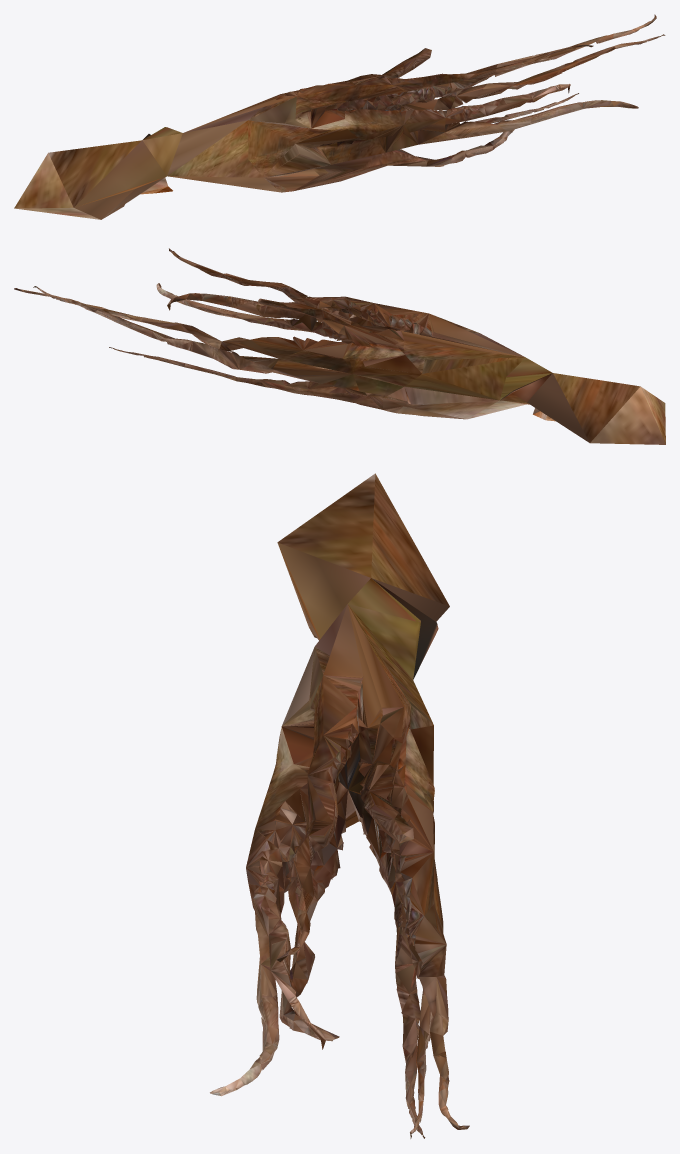
The model's file is octopus.glb.
The picture shows the model from 3 angles, top to bottom: view 1: azimuth 30°, elevation 25°; view 2: azimuth 150°, elevation 25°; view 3: azimuth 270°, elevation 25°; orthographic projection. The views are drawn at different scales.
Parts seen in each view (by area): view 1: body; view 2: body; view 3: body.
Boxes of the visible parts, left/top/right/bottom form: body: left=14, top=14, right=665, bottom=219; body: left=14, top=248, right=665, bottom=444; body: left=210, top=473, right=469, bottom=1138.
Size of the model in its own units: 0.9932 by 0.1422 by 0.1771.
3 materials, 3 textured.
